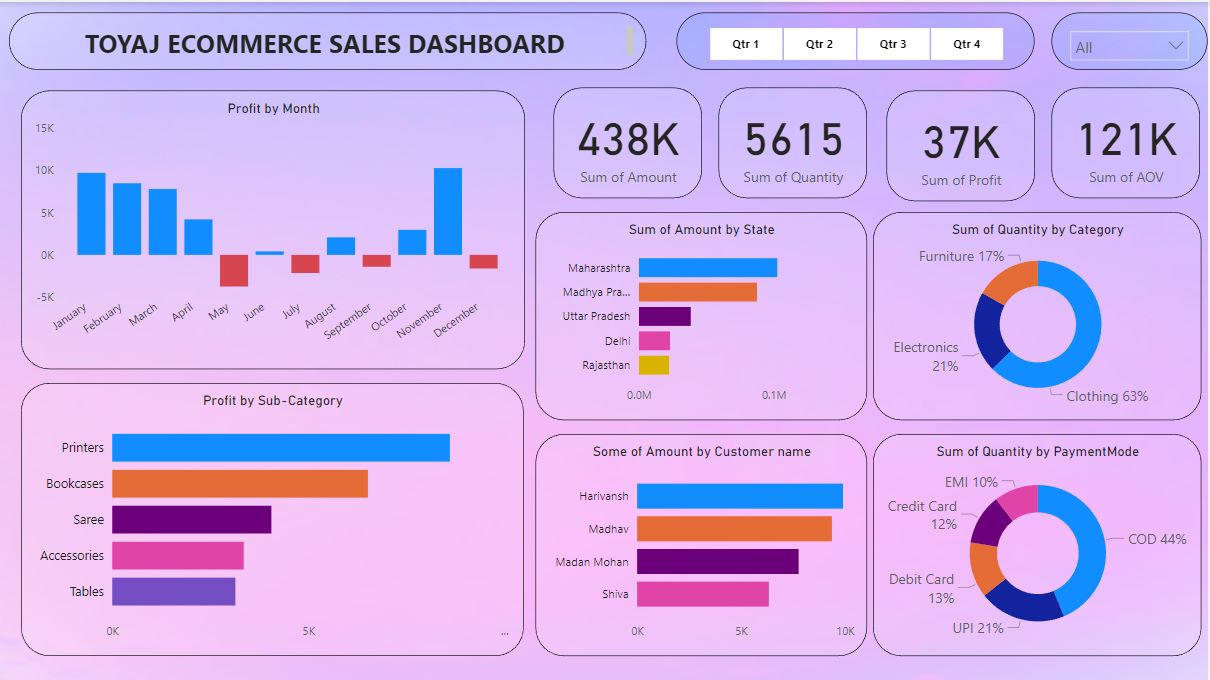

This screenshot's page, from the dashboard's own definition file:
{"tool":"powerbi","page":{"name":"Page 1","canvas":[1280,720],"ordinal":0},"visuals":[{"type":"clusteredColumnChart","title":"Profit by Month","fields":{"Category":["Orders.Order Date.Variation.Date Hierarchy.Month"],"Y":["Details.Profit"]},"box":[22.3,93.8,534,295.6],"z":0},{"type":"barChart","title":"Profit by Sub-Category","fields":{"Category":["Details.Sub-Category"],"Y":["Details.Profit"]},"box":[22.3,403.7,532.5,289.3],"z":1000},{"type":"donutChart","fields":{"Category":["Details.Category"],"Y":["Details.Quantity"]},"box":[925,222.5,348.1,220.9],"z":2000},{"type":"donutChart","fields":{"Category":["Details.PaymentMode"],"Y":["Details.Quantity"]},"box":[925,457.7,348.1,235.2],"z":3000},{"type":"card","fields":{"Values":["Details.Amount"]},"box":[586.5,90.6,157.4,117.6],"z":4000},{"type":"card","fields":{"Values":["Details.Quantity"]},"box":[761.3,90.6,157.4,117.6],"z":5000},{"type":"card","fields":{"Values":["Details.Profit"]},"box":[939.3,93.8,157.4,117.6],"z":6000},{"type":"card","fields":{"Values":["Details.AOV"]},"box":[1114.2,90.6,157.4,117.6],"z":7000},{"type":"barChart","title":"Sum of Amount by State","fields":{"Category":["Orders.State"],"Y":["Details.Amount"]},"box":[567.4,222.5,351.3,220.9],"z":8000},{"type":"barChart","title":"Some of Amount by Customer name","fields":{"Category":["Orders.CustomerName"],"Y":["Details.Amount"]},"box":[567.4,457.7,351.3,235.2],"z":9000},{"type":"textbox","box":[9.5,11.1,675.5,60.4],"z":10000},{"type":"slicer","fields":{"Values":["Orders.Order Date.Variation.Date Hierarchy.Quarter"]},"box":[717.4,11.3,379.5,60.4],"z":11000},{"type":"slicer","fields":{"Values":["Orders.State"]},"box":[1114.2,11.1,165.3,60.4],"z":12000}]}

Visuals, with their boxes in screenshot pixels (x1, y1, x2, y2), scaled from the page's 1280x720 canvas onto the 1210x680 screenshot:
"Profit by Month" clusteredColumnChart: rect(21, 89, 526, 368)
"Profit by Sub-Category" barChart: rect(21, 381, 524, 654)
donutChart - Details.Category x Details.Quantity: rect(874, 210, 1203, 419)
donutChart - Details.PaymentMode x Details.Quantity: rect(874, 432, 1203, 654)
card - Details.Amount: rect(554, 86, 703, 197)
card - Details.Quantity: rect(720, 86, 868, 197)
card - Details.Profit: rect(888, 89, 1037, 200)
card - Details.AOV: rect(1053, 86, 1202, 197)
"Sum of Amount by State" barChart: rect(536, 210, 868, 419)
"Some of Amount by Customer name" barChart: rect(536, 432, 868, 654)
textbox: rect(9, 10, 648, 68)
slicer - Orders.Order Date.Variation.Date Hierarchy.Quarter: rect(678, 11, 1037, 68)
slicer - Orders.State: rect(1053, 10, 1209, 68)
